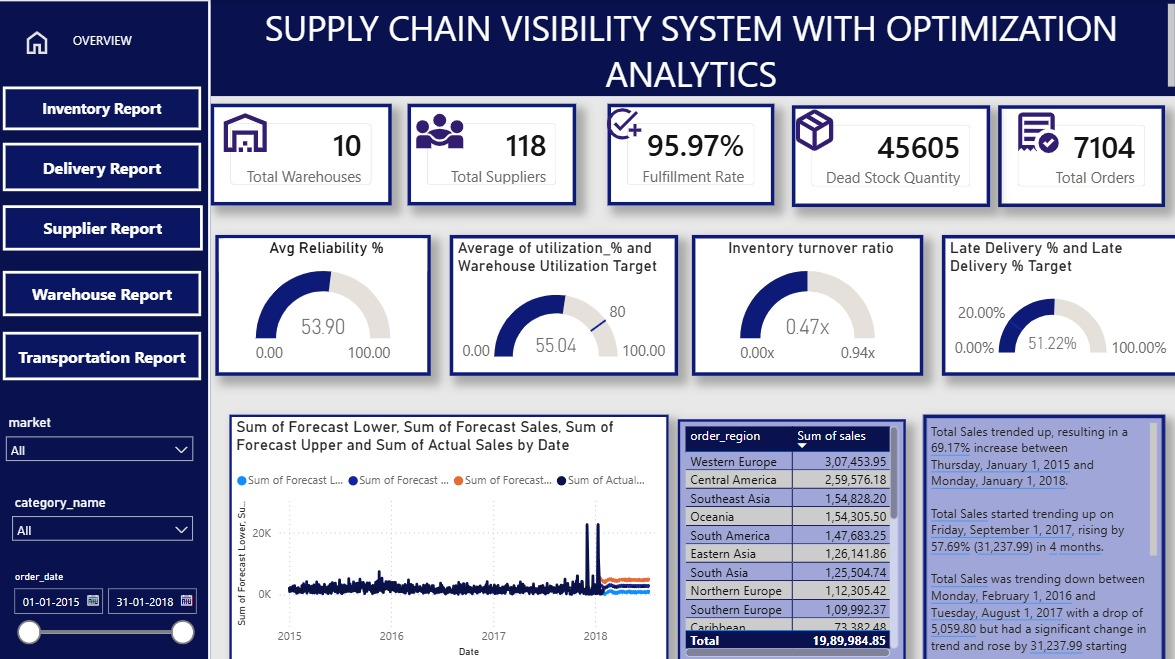

The page's visual inventory and layout, read from the dashboard file:
{"tool":"powerbi","page":{"name":"Page 7","canvas":[1280,720],"ordinal":6},"visuals":[{"type":"cardVisual","fields":{"Data":["Fact_table.Total Orders"]},"box":[1099.7,113.2,180.7,109.8],"z":0},{"type":"cardVisual","fields":{"Data":["Fact_table.Fulfillment Rate"]},"box":[662.2,113.2,180.7,109.8],"z":1000},{"type":"cardVisual","fields":{"Data":["Dim_Warehouse.Total Warehouses"]},"box":[233.1,113.2,195.9,109.8],"z":2000},{"type":"cardVisual","fields":{"Data":["Fact_table.Total Suppliers"]},"box":[446,113.2,182.4,109.8],"z":3000},{"type":"cardVisual","fields":{"Data":["Fact_table.Dead Stock Quantity"]},"box":[861.5,114.9,214.5,109.8],"z":4000},{"type":"gauge","fields":{"Y":["Fact_table.Late Delivery %"],"TargetValue":["Fact_table.Late Delivery % Target"]},"box":[1023.7,255.1,256.8,152],"z":5000},{"type":"lineChart","fields":{"Y":["Sum(Prophet_Sales_Forecast.Forecast Lower)","Sum(Prophet_Sales_Forecast.Forecast Sales)","Sum(Prophet_Sales_Forecast.Forecast Upper)","Sum(Prophet_Sales_Forecast.Actual Sales)"],"Category":["Prophet_Sales_Forecast.Date"]},"box":[253.7,449.3,474.7,270.3],"z":6000},{"type":"gauge","fields":{"Y":["Avg(Dim_Warehouse.utilization_%)"],"TargetValue":["Fact_table.Warehouse Utilization Target"]},"box":[491.6,255.1,247,152],"z":7000},{"type":"gauge","fields":{"Y":["Fact_table.Avg Reliability %"]},"box":[238.2,255.1,233.1,152],"z":8000},{"type":"gauge","fields":{"Y":["Fact_table.Inventory turnover ratio"]},"box":[753.4,255.1,250,152],"z":9000},{"type":"tableEx","fields":{"Values":["Fact_table.order_region","Sum(Fact_table.sales)"]},"box":[738.2,454.4,246.6,265.2],"z":10000},{"type":"textbox","box":[1003.4,449.3,261.8,270.3],"z":11000},{"type":"textbox","box":[233.1,0,1047.3,94.6],"z":12000},{"type":"textbox","box":[0,0,233.1,719.6],"z":13000},{"type":"slicer","fields":{"Values":["Dim_location.market"]},"box":[1.7,444.4,222.2,84.6],"z":14000},{"type":"slicer","fields":{"Values":["Fact_table.category_name"]},"box":[8.3,530.6,215.6,82.9],"z":15000},{"type":"slicer","fields":{"Values":["Fact_table.order_date"]},"box":[8.3,613.5,215.6,96.2],"z":16000},{"type":"actionButton","box":[8.4,94.6,214.5,47.3],"z":17000},{"type":"actionButton","box":[8.4,155.4,214.5,52.4],"z":18000},{"type":"actionButton","box":[8.4,223,216.2,49],"z":19000},{"type":"actionButton","box":[8.4,359.8,214.5,52.4],"z":20000},{"type":"actionButton","box":[8.4,293.9,214.5,49],"z":21000},{"type":"image","box":[0,29.8,91.2,33.2],"z":22000},{"type":"image","box":[238.2,116.6,64.2,55.7],"z":23000},{"type":"image","box":[446,114.9,69.3,55.7],"z":24000},{"type":"image","box":[648.7,114.9,59.1,40.5],"z":25000},{"type":"image","box":[841.2,114.9,89.5,54.1],"z":26000},{"type":"image","box":[1099.7,104.7,52.4,76],"z":27000},{"type":"textbox","box":[79.6,29.8,104.5,33.2],"z":28000}]}

Visuals, with their boxes in screenshot pixels (x1, y1, x2, y2):
cardVisual - Fact_table.Total Orders: select_region(1015, 100, 1174, 202)
cardVisual - Fact_table.Fulfillment Rate: select_region(606, 100, 775, 202)
cardVisual - Dim_Warehouse.Total Warehouses: select_region(206, 100, 389, 202)
cardVisual - Fact_table.Total Suppliers: select_region(404, 100, 575, 202)
cardVisual - Fact_table.Dead Stock Quantity: select_region(793, 101, 993, 204)
gauge - Fact_table.Late Delivery % x Fact_table.Late Delivery % Target: select_region(944, 232, 1174, 374)
lineChart - Sum(Prophet_Sales_Forecast.Forecast Lower) x Sum(Prophet_Sales_Forecast.Forecast Sales): select_region(225, 414, 668, 658)
gauge - Avg(Dim_Warehouse.utilization_%) x Fact_table.Warehouse Utilization Target: select_region(447, 232, 678, 374)
gauge - Fact_table.Avg Reliability %: select_region(210, 232, 428, 374)
gauge - Fact_table.Inventory turnover ratio: select_region(692, 232, 925, 374)
tableEx - Fact_table.order_region x Sum(Fact_table.sales): select_region(677, 418, 908, 658)
textbox: select_region(925, 414, 1170, 658)
textbox: select_region(206, 0, 1174, 82)
textbox: select_region(0, 0, 206, 658)
slicer - Dim_location.market: select_region(0, 409, 197, 488)
slicer - Fact_table.category_name: select_region(0, 490, 197, 567)
slicer - Fact_table.order_date: select_region(0, 567, 197, 657)
actionButton: select_region(0, 82, 196, 126)
actionButton: select_region(0, 139, 196, 188)
actionButton: select_region(0, 202, 198, 248)
actionButton: select_region(0, 330, 196, 379)
actionButton: select_region(0, 268, 196, 314)
image: select_region(0, 22, 73, 53)
image: select_region(210, 103, 270, 155)
image: select_region(404, 101, 469, 153)
image: select_region(594, 101, 649, 139)
image: select_region(774, 101, 857, 152)
image: select_region(1015, 92, 1064, 163)
textbox: select_region(62, 22, 160, 53)
